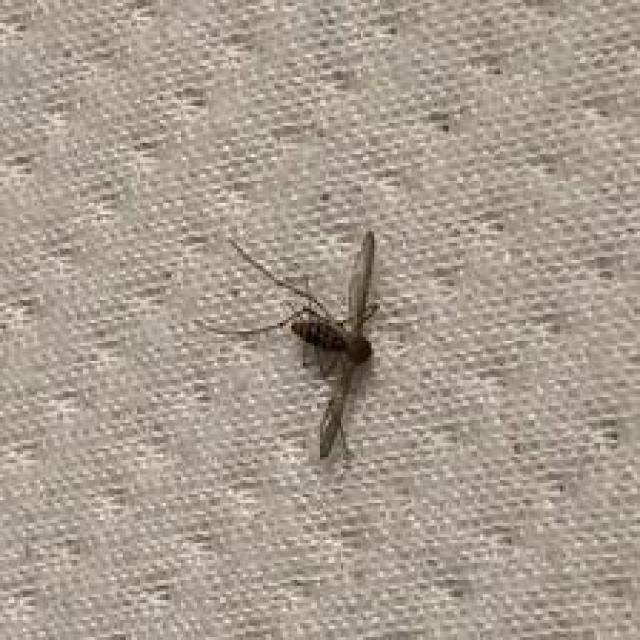Culex: (191, 227, 386, 462)
